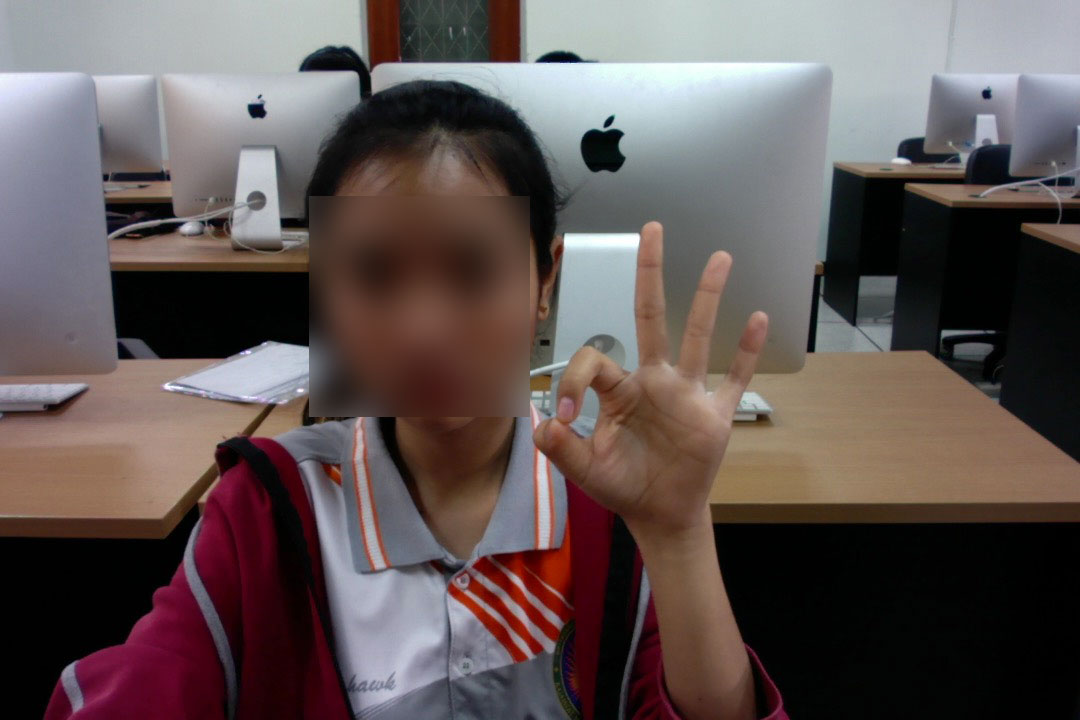for: (519, 203, 785, 563)
